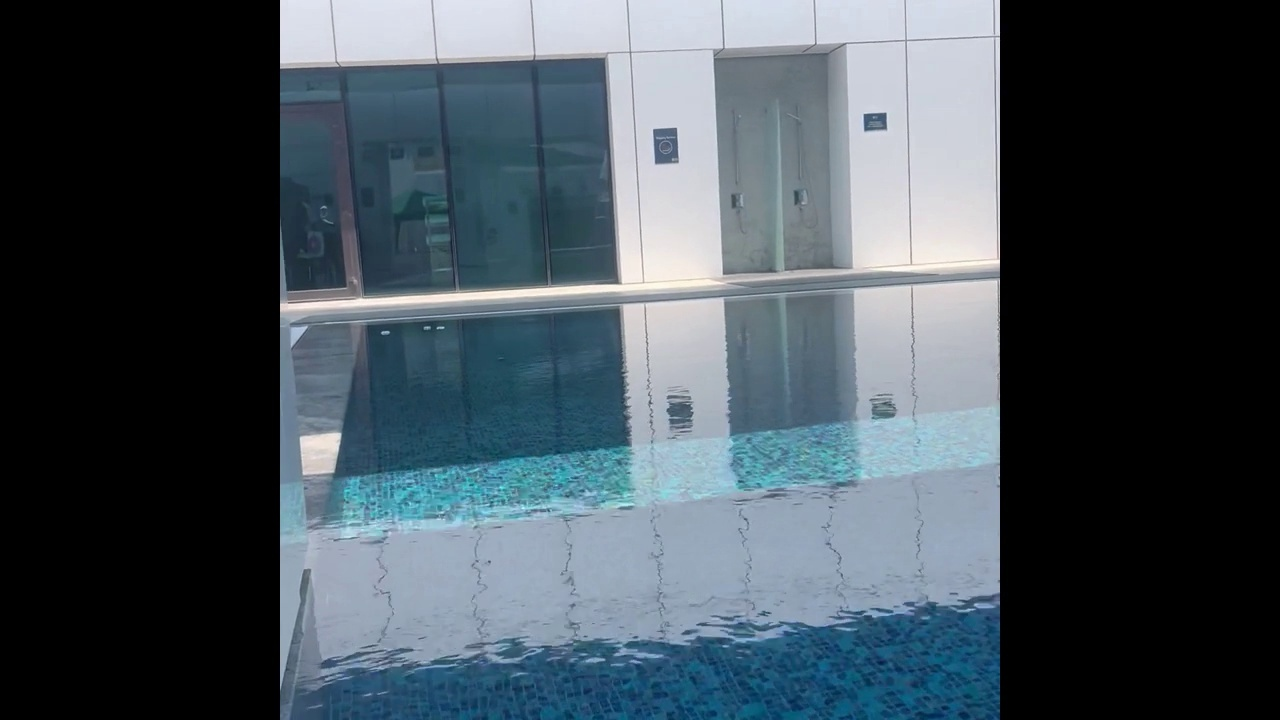debris: (378, 327, 393, 339), (431, 323, 447, 334), (420, 323, 433, 333)
